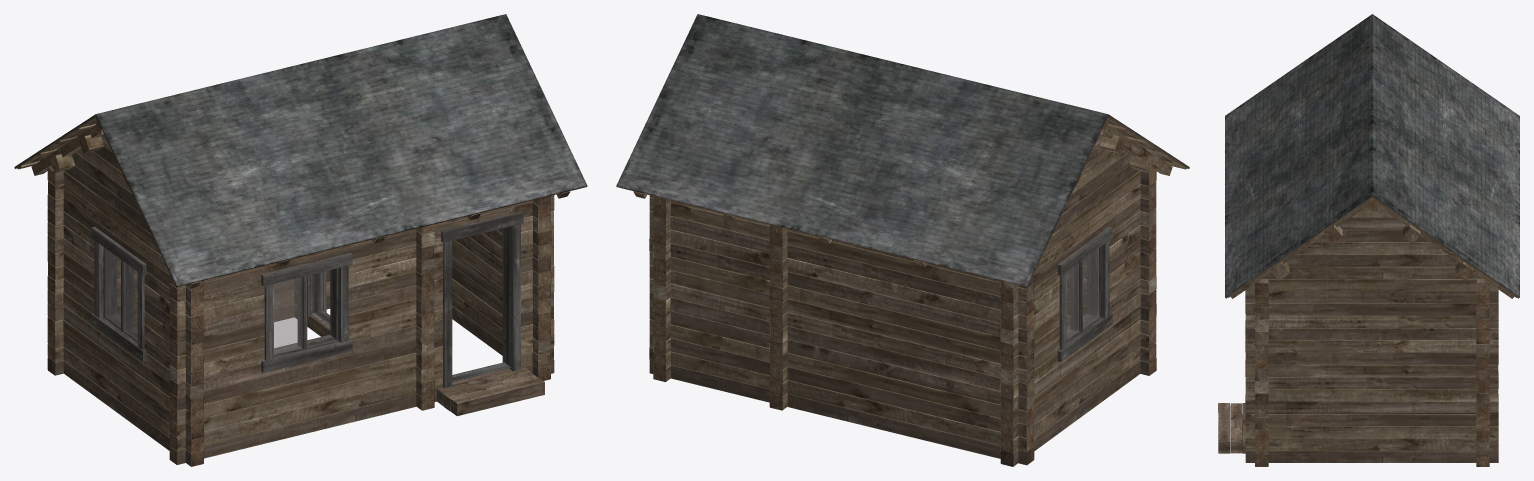
The model's file is log-cabin.lod1.glb.
The picture shows the model from 3 angles, left to right: view 1: azimuth 30°, elevation 25°; view 2: azimuth 150°, elevation 25°; view 3: azimuth 270°, elevation 25°; orthographic projection. The views are drawn at different scales.
Visible parts, largest first — view 1: Base_Roof_0, Base_Wood1a_0, Base_Wood1b_0, Base_Wood2_0, Base_WoodEnds_0, Base_Glass_0; view 2: Base_Roof_0, Base_Wood1a_0, Base_Wood1b_0, Base_WoodEnds_0, Base_Wood2_0, Base_Glass_0; view 3: Base_Roof_0, Base_Wood1b_0, Base_Wood1a_0, Base_WoodEnds_0.
Boxes of the visible parts, x1,y1,x2,y2 form: Base_Roof_0: (14, 14, 587, 286); Base_Wood1a_0: (17, 124, 570, 453); Base_Wood1b_0: (14, 115, 586, 466); Base_Wood2_0: (91, 211, 523, 387); Base_WoodEnds_0: (47, 118, 569, 466); Base_Glass_0: (105, 248, 301, 354); Base_Roof_0: (616, 14, 1189, 286); Base_Wood1a_0: (633, 124, 1186, 452); Base_Wood1b_0: (616, 115, 1189, 465); Base_WoodEnds_0: (634, 118, 1156, 466); Base_Wood2_0: (1057, 227, 1112, 361); Base_Glass_0: (1066, 248, 1098, 339); Base_Roof_0: (1225, 14, 1519, 297); Base_Wood1b_0: (1218, 196, 1519, 466); Base_Wood1a_0: (1228, 201, 1516, 454); Base_WoodEnds_0: (1255, 198, 1489, 466).
Size of the model in its own units: 6.3 by 4.51 by 4.43.
Materials: 6 (6 with a texture image).
